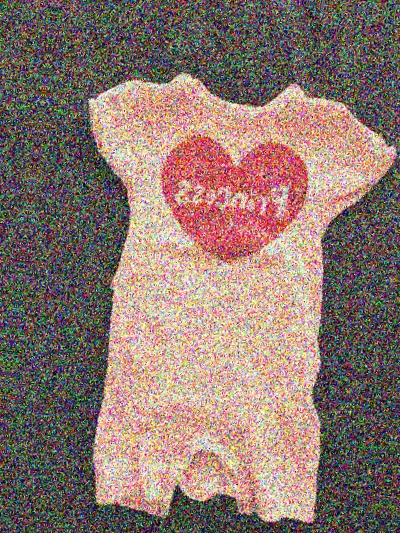Body: (20, 34, 400, 533), (0, 0, 20, 511), (385, 81, 400, 533)
